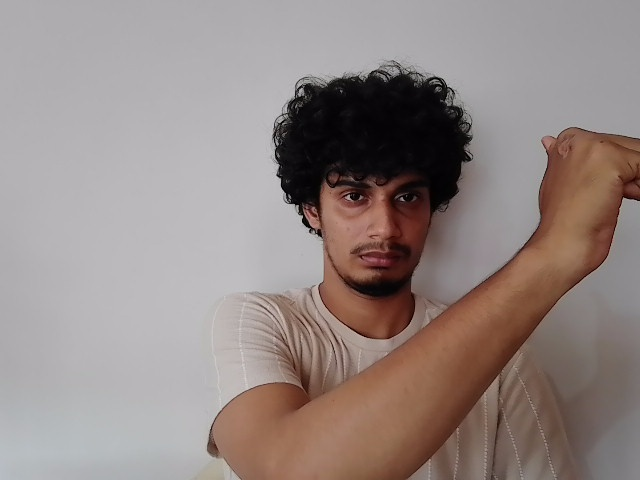how: (534, 125, 640, 271)
